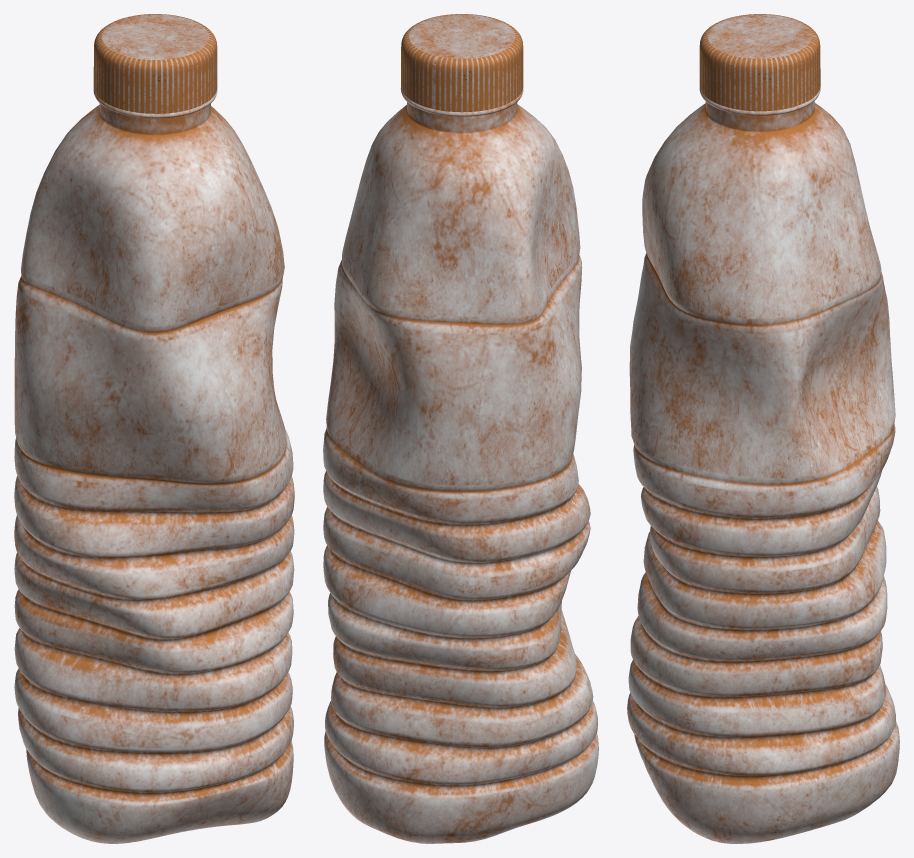
File: bottleFBX.fbx
The picture shows the model from 3 angles, left to right: view 1: azimuth 30°, elevation 25°; view 2: azimuth 150°, elevation 25°; view 3: azimuth 270°, elevation 25°; orthographic projection. The views are drawn at different scales.
Visible parts, largest first — view 1: Beat_Water_Bottle, Bottle_Cap; view 2: Beat_Water_Bottle, Bottle_Cap; view 3: Beat_Water_Bottle, Bottle_Cap.
Part boxes in pixels (x1,y1,x2,y2): Beat_Water_Bottle: (14,89,294,843); Bottle_Cap: (93,14,217,113); Beat_Water_Bottle: (323,88,598,843); Bottle_Cap: (401,14,523,112); Beat_Water_Bottle: (627,86,899,843); Bottle_Cap: (699,14,820,111).
Size of the model in its own units: 29.96 by 92.63 by 29.92.
